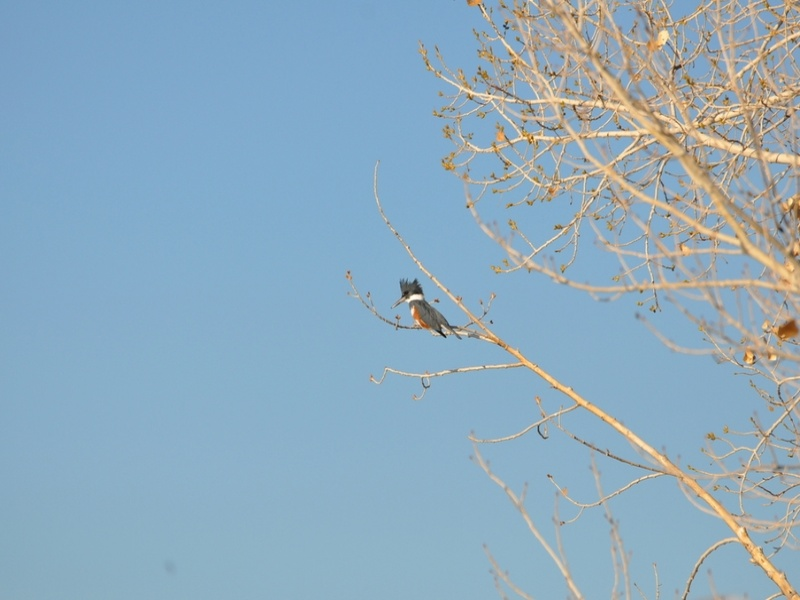kingfisher: (394, 278, 460, 339)
